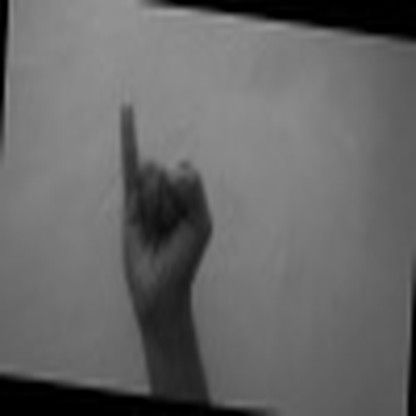i: (102, 85, 215, 310)
